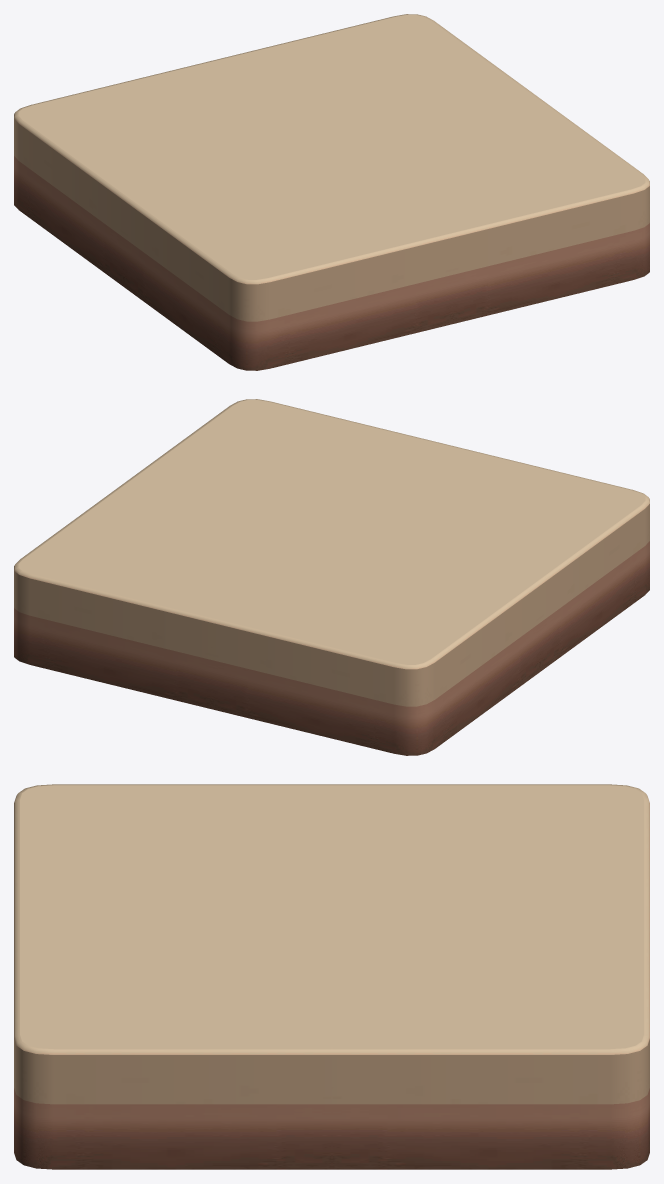
The model's file is Props.fbx.
The picture shows the model from 3 angles, top to bottom: view 1: azimuth 30°, elevation 25°; view 2: azimuth 150°, elevation 25°; view 3: azimuth 270°, elevation 25°; orthographic projection. The views are drawn at different scales.
Parts seen in each view (by area): view 1: Box02; view 2: Box02; view 3: Box02.
Part boxes in pixels (x1=…): Box02: x1=14, y1=14, x2=649, y2=370; Box02: x1=14, y1=399, x2=649, y2=755; Box02: x1=14, y1=784, x2=649, y2=1169.
Bounding box in the file's own units: 12.8 × 2.62 × 12.8.
1 material, 1 textured.
